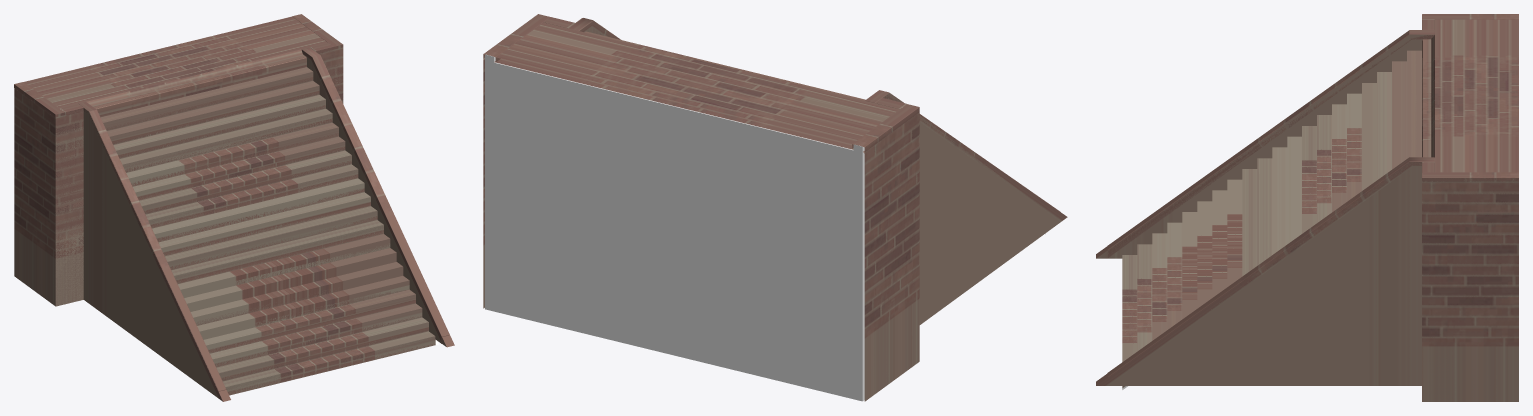
File: objects_un_c01buildporch01.gltf
3 views of the same model, side by side, from view 1: azimuth 30°, elevation 25°; view 2: azimuth 150°, elevation 25°; view 3: azimuth 270°, elevation 25° (orthographic). The views are drawn at different scales.
Parts seen in each view (by area): view 1: um_objects_un_c01buildporch01_model_lod0Shape:objects_un_c01 (×2), um_objects_un_c01buildporch01_model_lod1Shape:objects_un_c01 (×2), um_objects_un_c01buildporch01_model_lod2Shape:objects_un_c01; view 2: um_objects_un_c01buildporch01_model_lod0Shape:objects_un_c01 (×3), um_objects_un_c01buildporch01_model_lod2Shape:objects_un_c01, um_objects_un_c01buildporch01_model_lod1Shape:objects_un_c01; view 3: um_objects_un_c01buildporch01_model_lod0Shape:objects_un_c01 (×2), um_objects_un_c01buildporch01_model_lod1Shape:objects_un_c01 (×2), um_objects_un_c01buildporch01_model_lod2Shape:objects_un_c01.
Part boxes in pixels (x1,y1,x2,y2): um_objects_un_c01buildporch01_model_lod0Shape:objects_un_c01 (×2): (14,14,449,395); um_objects_un_c01buildporch01_model_lod1Shape:objects_un_c01 (×2): (14,44,454,401); um_objects_un_c01buildporch01_model_lod2Shape:objects_un_c01: (14,16,343,397); um_objects_un_c01buildporch01_model_lod0Shape:objects_un_c01 (×3): (483,14,1061,401); um_objects_un_c01buildporch01_model_lod2Shape:objects_un_c01: (483,22,1059,399); um_objects_un_c01buildporch01_model_lod1Shape:objects_un_c01: (483,32,1060,400); um_objects_un_c01buildporch01_model_lod0Shape:objects_un_c01 (×2): (1107,14,1518,401); um_objects_un_c01buildporch01_model_lod1Shape:objects_un_c01 (×2): (1096,14,1518,401); um_objects_un_c01buildporch01_model_lod2Shape:objects_un_c01: (1108,19,1518,401).
Bounding box in the file's own units: 8.01 × 5.27 × 8.73.
3 materials, 2 textured.
